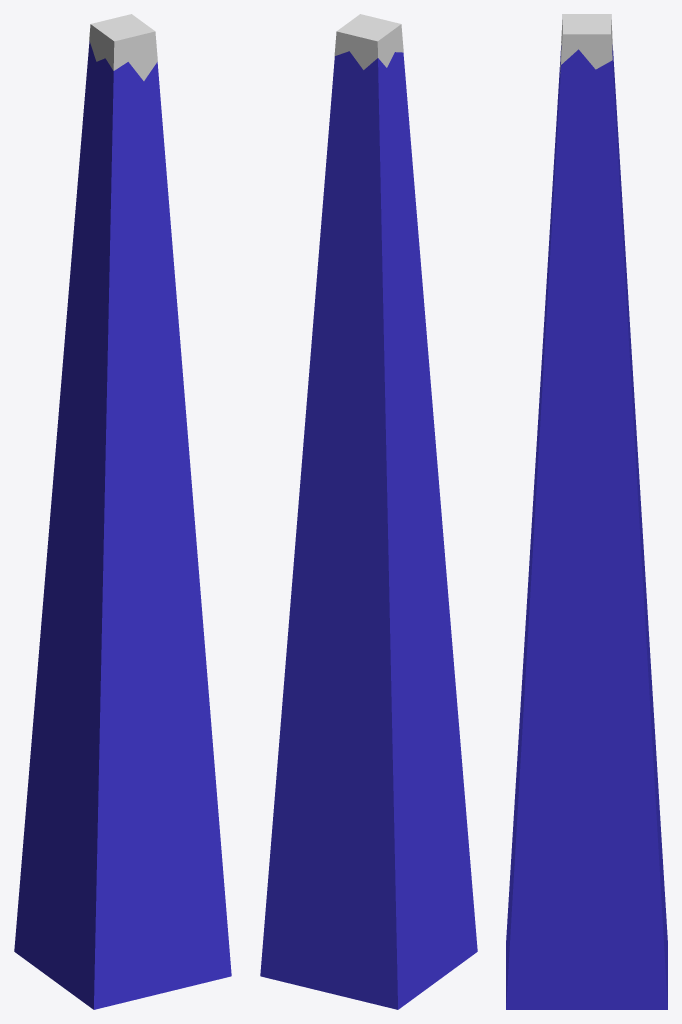
The model's file is mountain002.fbx.
3 renders of one model, left to right at view 1: azimuth 30°, elevation 25°; view 2: azimuth 150°, elevation 25°; view 3: azimuth 270°, elevation 25°, orthographic.
Visible parts, largest first — view 1: mountain002; view 2: mountain002; view 3: mountain002.
Boxes of the visible parts, x1=… form: mountain002: x1=14, y1=14, x2=231, y2=1009; mountain002: x1=260, y1=14, x2=477, y2=1009; mountain002: x1=506, y1=14, x2=667, y2=1009.
Size of the model in its own units: 676 by 4388 by 676.
